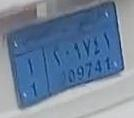city: (13, 48, 50, 107)
number: (42, 23, 123, 95)
text: (9, 0, 118, 56)
